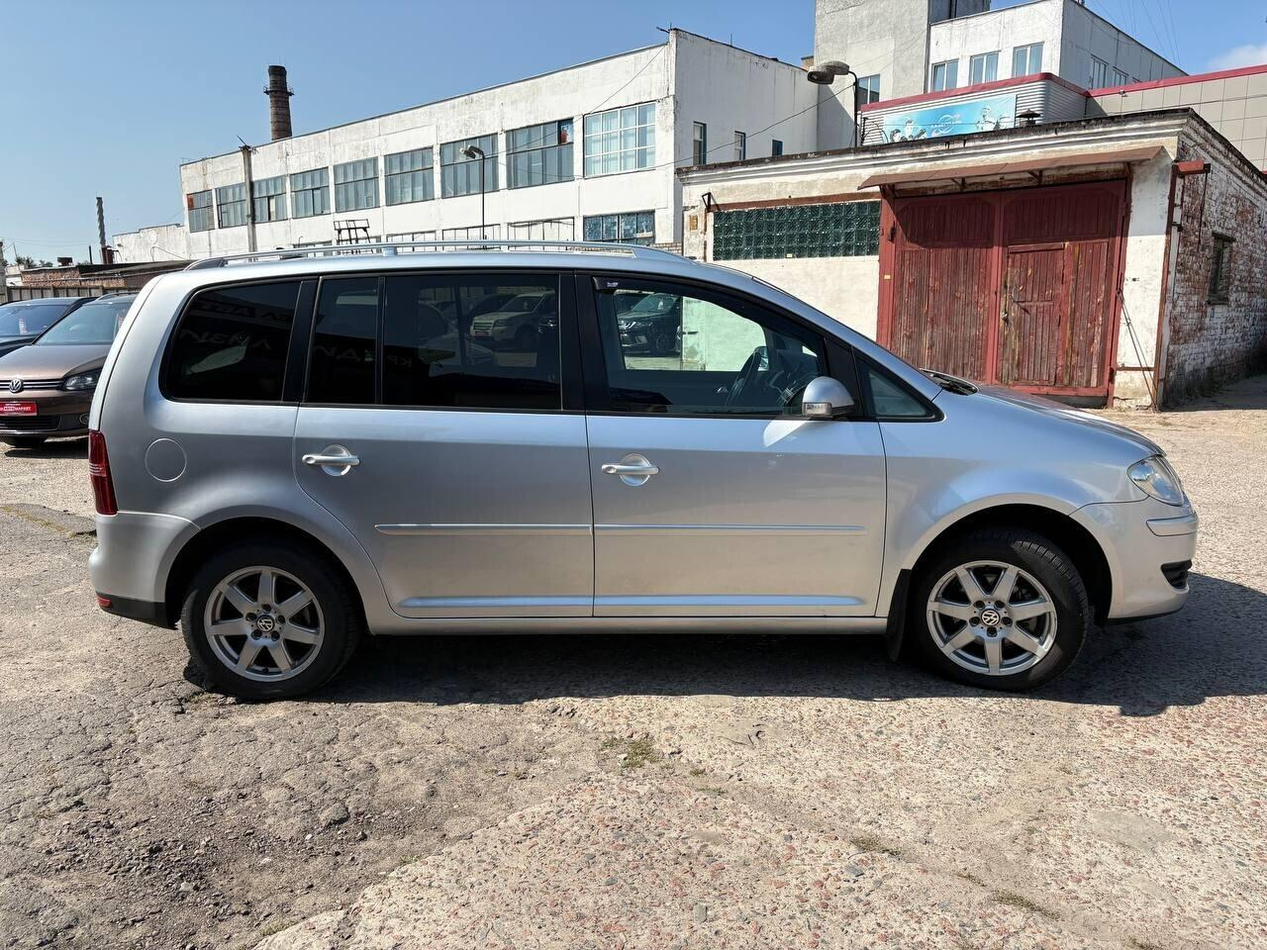Touran_2006-2010: (85, 247, 1203, 695)
